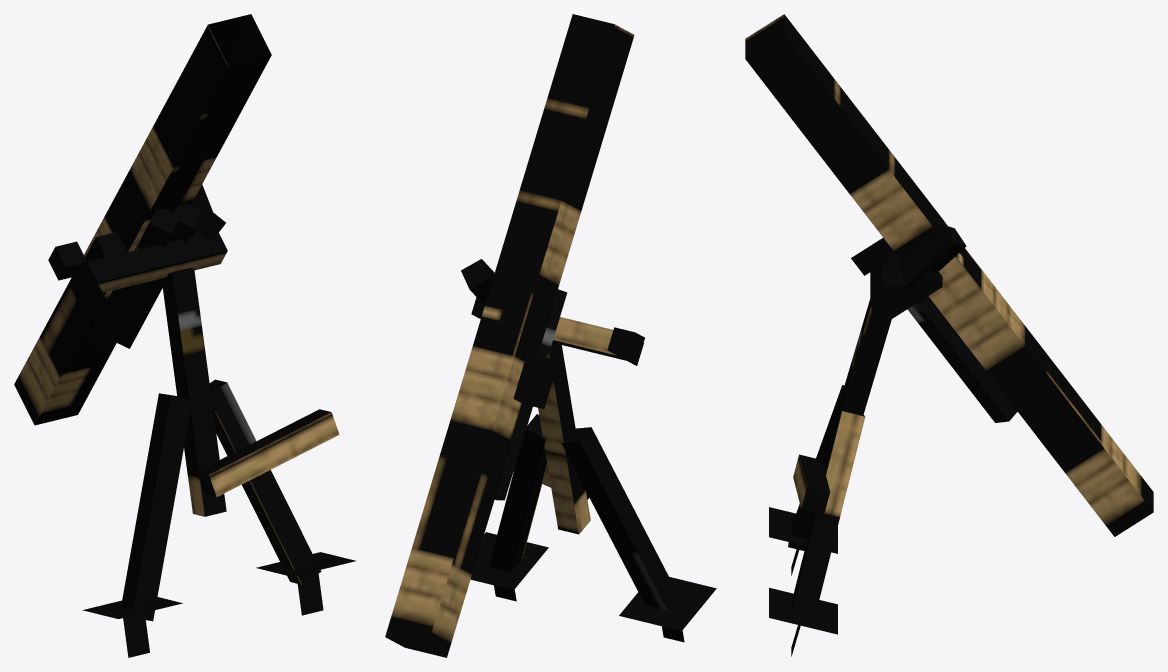
File: 2b14_turret.obj
3 renders of one model, left to right at view 1: azimuth 30°, elevation 25°; view 2: azimuth 150°, elevation 25°; view 3: azimuth 270°, elevation 25°, orthographic. The views are drawn at different scales.
Visible parts, largest first — view 1: elevator; view 2: elevator; view 3: elevator.
Boxes of the visible parts, x1=… form: elevator: x1=14, y1=14, x2=355, y2=657; elevator: x1=385, y1=14, x2=716, y2=657; elevator: x1=745, y1=14, x2=1153, y2=656.
Bounding box in the file's own units: 0.6875 × 1.7 × 1.07.
